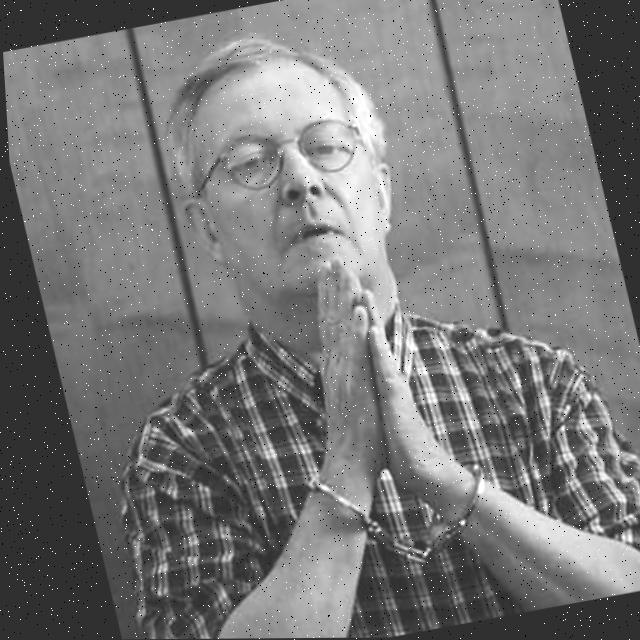face: (153, 32, 412, 334)
